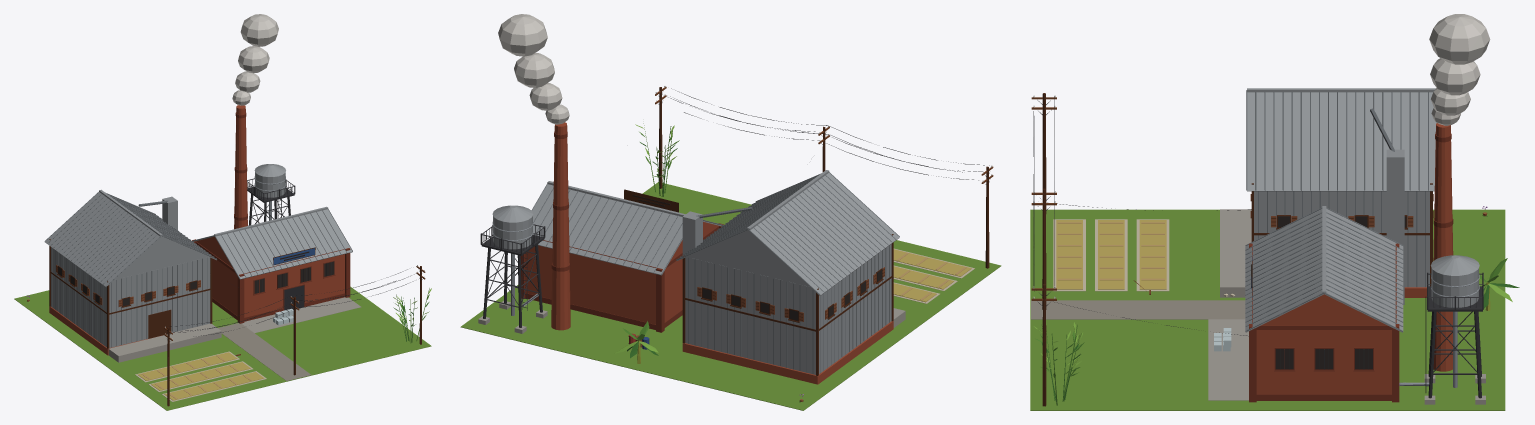
File: factory_4.glb
The picture shows the model from 3 angles, left to right: view 1: azimuth 30°, elevation 25°; view 2: azimuth 150°, elevation 25°; view 3: azimuth 270°, elevation 25°; orthographic projection. The views are drawn at different scales.
Visible parts, largest first — view 1: body, windows; view 2: body, windows; view 3: body, windows.
Part boxes in pixels (x1,y1,x2,y2): body: [14, 14, 431, 410]; windows: [58, 261, 334, 306]; body: [460, 14, 1001, 410]; windows: [702, 269, 882, 320]; body: [1030, 14, 1519, 410]; windows: [1275, 216, 1406, 369].
Bounding box in the file's own units: 33.03 × 27.46 × 32.95.
